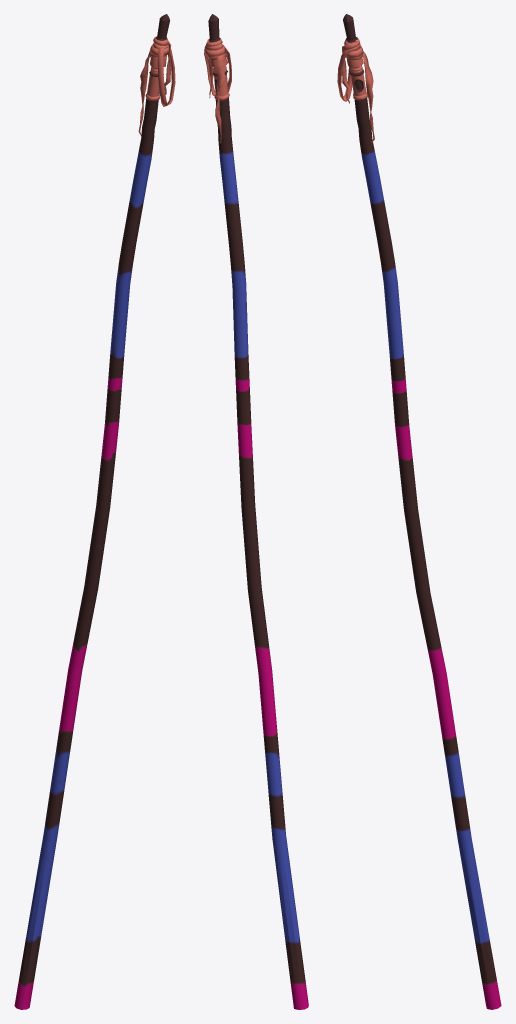
Rendered from pontagonist stick.fbx.
3 views of the same model, side by side, from view 1: azimuth 90°, elevation 25°; view 2: azimuth 210°, elevation 25°; view 3: azimuth 270°, elevation 25° (orthographic). The views are drawn at different scales.
Parts seen in each view (by area): view 1: stick1; view 2: stick1; view 3: stick1.
Part boxes in pixels (bbox=[...]): stick1: bbox=[14, 14, 175, 1009]; stick1: bbox=[204, 14, 308, 1009]; stick1: bbox=[337, 14, 501, 1009].
Bounding box in the file's own units: 6.41 × 162 × 24.11.
Materials: 1 (1 with a texture image).
